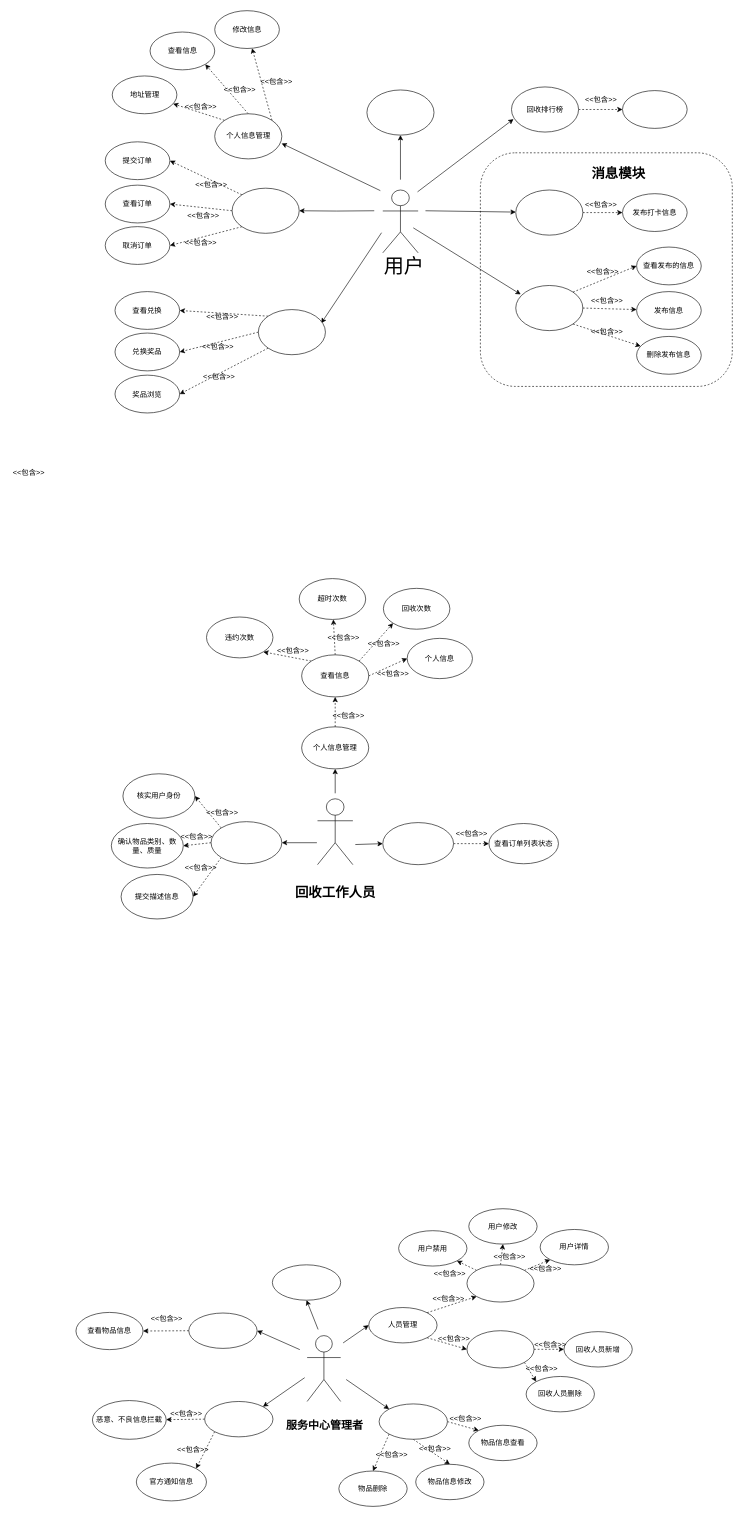
Some shapes in this 743 by 1517 pixel diagram are drawn without their labels. The centre of each missing label's shape, as x and y in pixels:
上传审核: (246,842)
人工审核物品信息: (222,1330)
回收人员管理: (500,1349)
回收物品管理: (413,1421)
回收状态管理: (418,843)
废旧物品分类: (400,112)
拍照打卡: (549,212)
捐献物品公示: (306,1282)
查看排行榜信息: (654,109)
消息动态: (549,308)
消息动态管理: (238,1419)
环保积分奖励: (291,332)
用户管理: (500,1283)
预约上门: (265,210)
